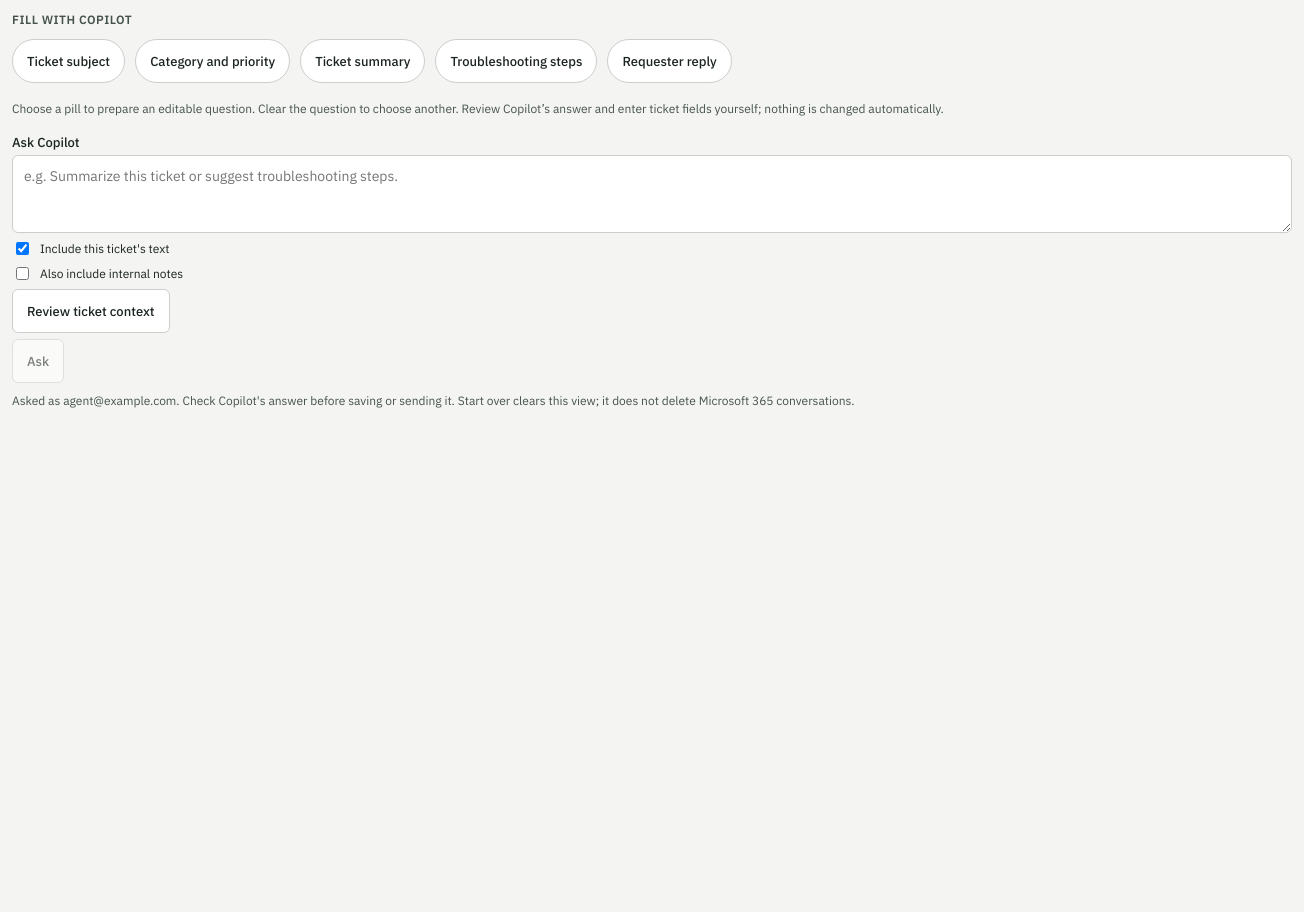
suggestion prompts are editable and still require context review before sending
Step 1. Click the button "Category and priority" → (213, 61), box x1=135 y1=39 x2=290 y2=83
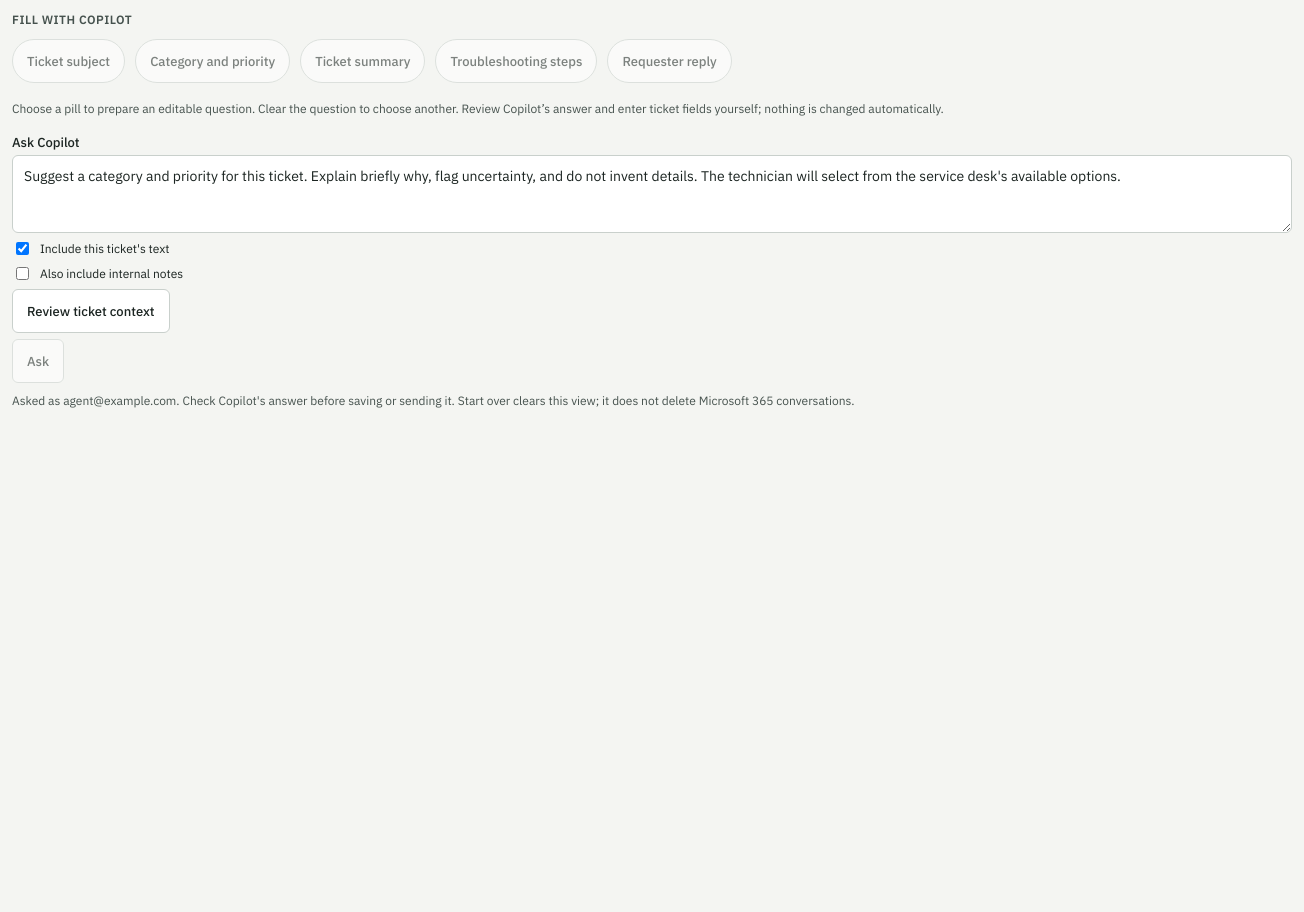
Expected: the button "Ask" is disabled, x1=12 y1=339 x2=64 y2=383
Now the button "Ticket subject" is disabled, box x1=12 y1=39 x2=125 y2=83
Step 2. Click the button "Review ticket context" → (91, 311), box x1=12 y1=289 x2=170 y2=333
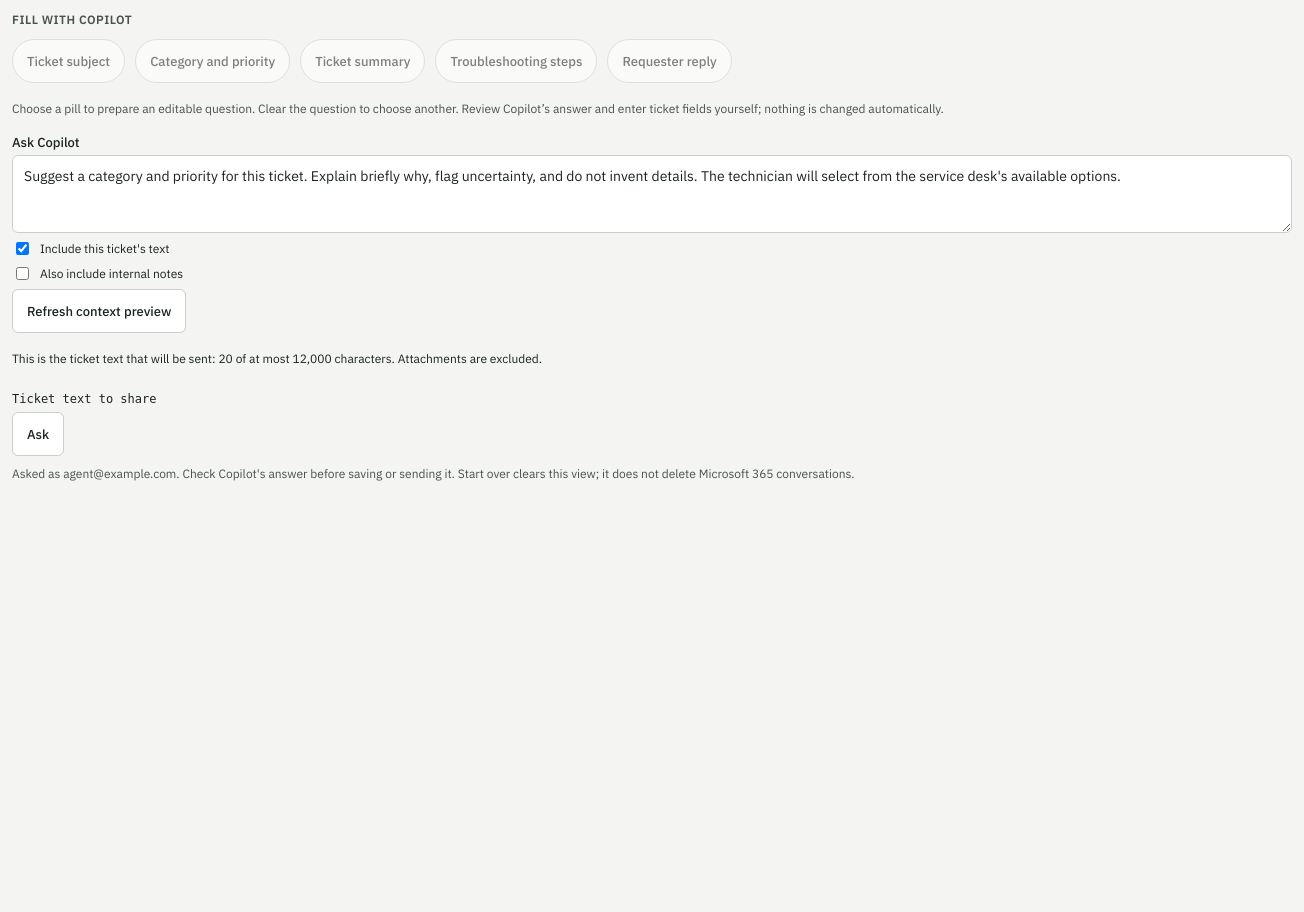
Now the text "Ticket text to share" is shown, box x1=12 y1=392 x2=156 y2=406
Step 3. Click the button "Ask" → (38, 434), box x1=12 y1=412 x2=64 y2=456
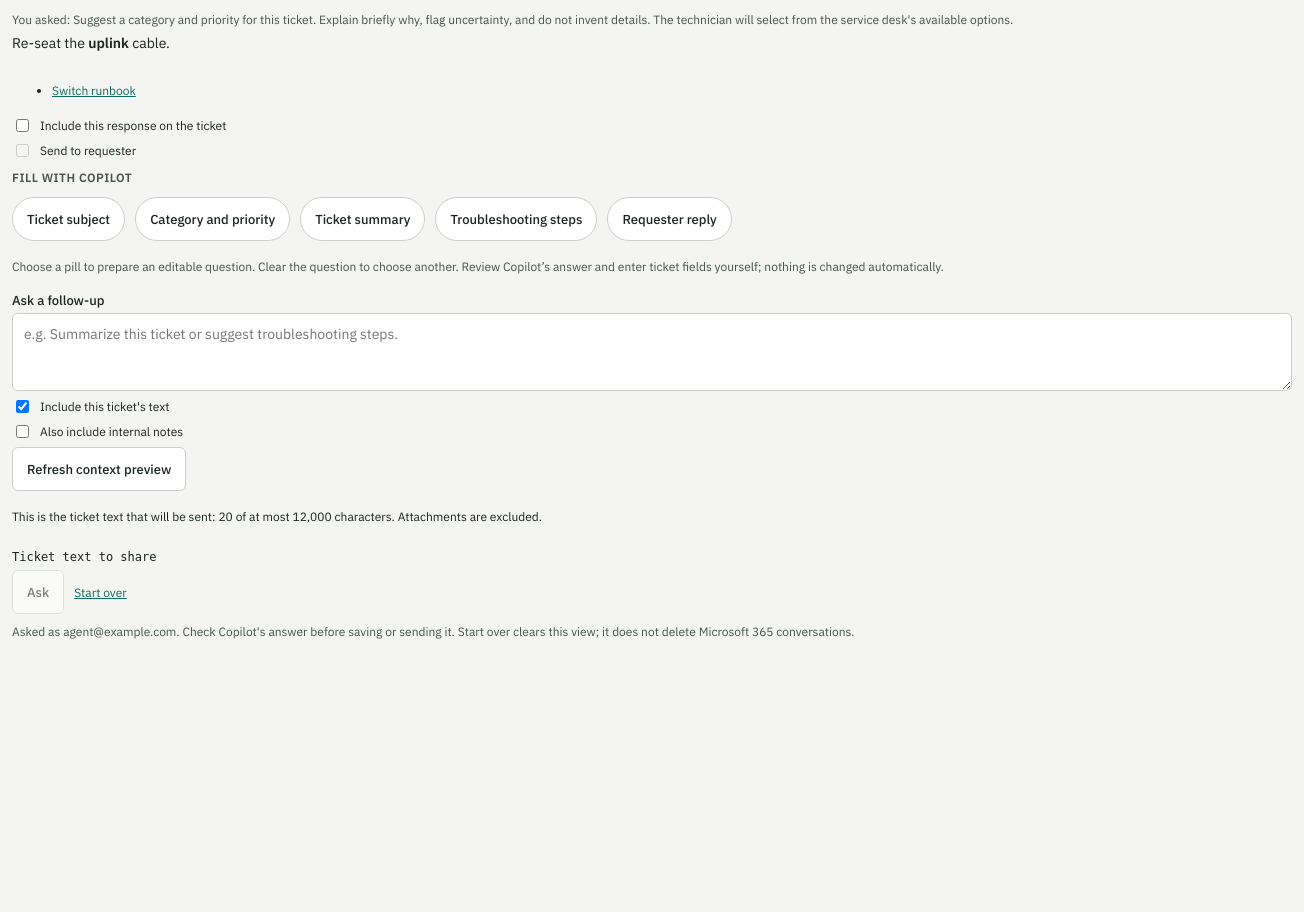
Now the text "uplink" is shown, box x1=88 y1=34 x2=129 y2=52
